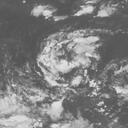cyclone: (38, 31, 102, 90)
